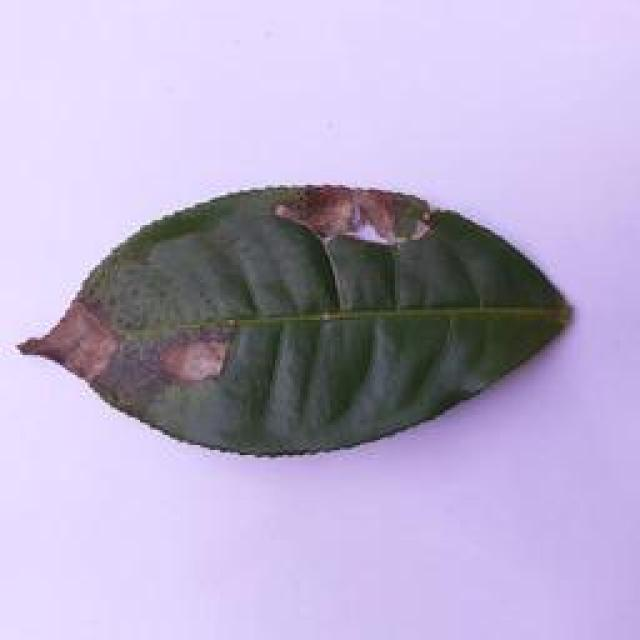Gray Blight: (12, 178, 584, 464)
